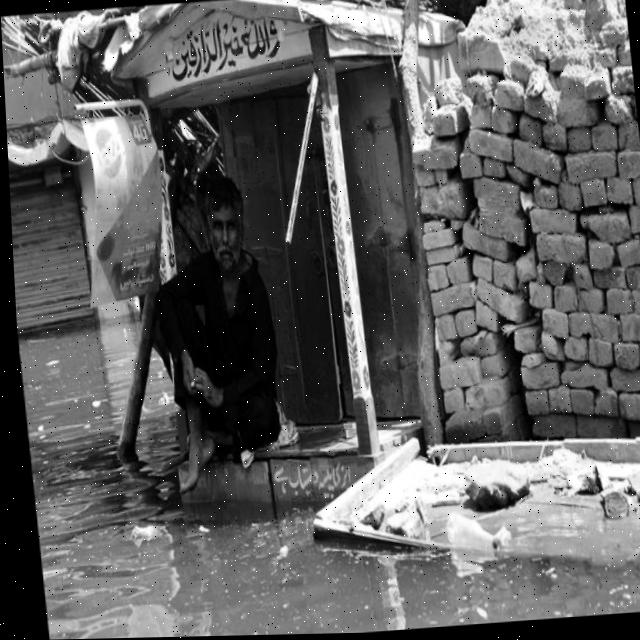civilian: (111, 171, 306, 485)
